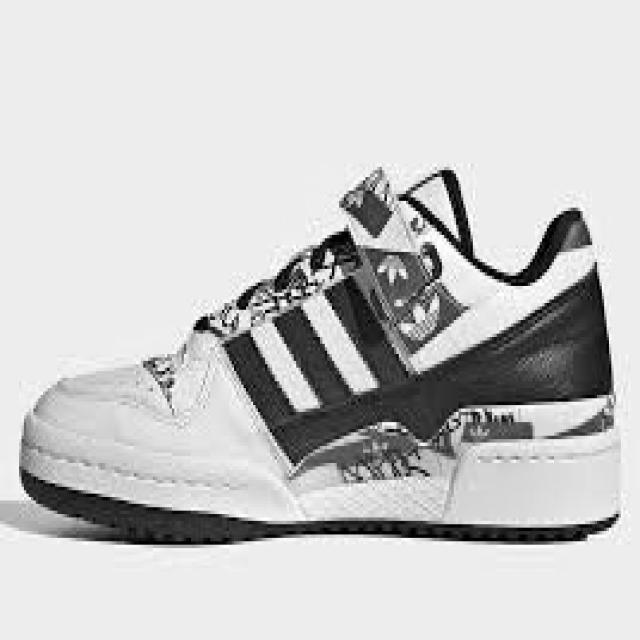Adidas: (399, 289, 447, 361), (370, 238, 416, 302)
